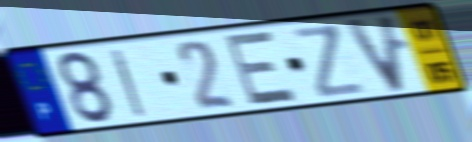2: (177, 38, 238, 113)
8: (53, 49, 117, 126)
E: (222, 28, 301, 109)
I: (107, 46, 149, 120)
V: (339, 11, 411, 97)
Z: (289, 21, 370, 100)
